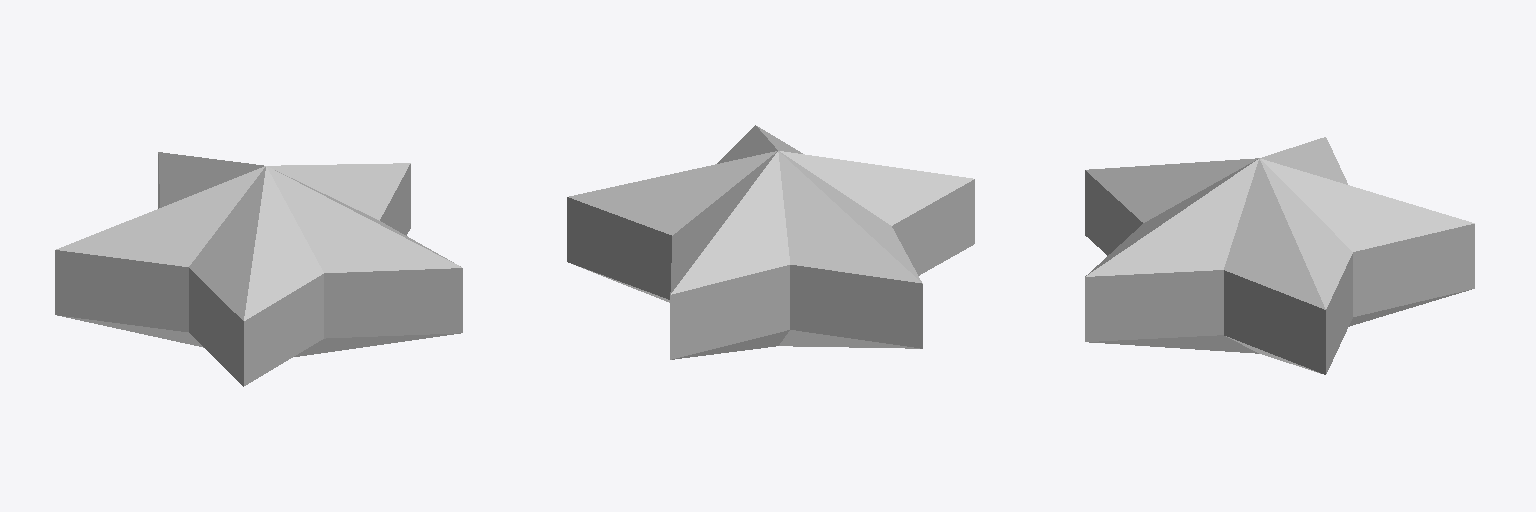
Rendered from Star.obj.
The picture shows the model from 3 angles: view 1: azimuth 30°, elevation 25°; view 2: azimuth 150°, elevation 25°; view 3: azimuth 270°, elevation 25°; orthographic projection.
Visible parts, largest first — view 1: Star; view 2: Star; view 3: Star.
Part boxes in pixels (bbox=[...]): Star: bbox=[55, 152, 462, 386]; Star: bbox=[567, 125, 974, 359]; Star: bbox=[1085, 137, 1474, 374].
Bounding box in the file's own units: 1.9 × 1 × 1.81.